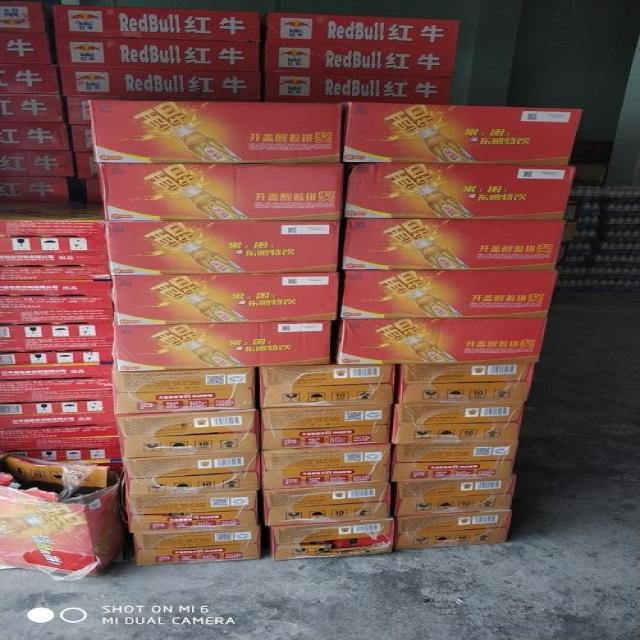box: (90, 100, 345, 164), (0, 451, 127, 577), (343, 102, 583, 167), (99, 162, 345, 219), (343, 163, 573, 219), (339, 218, 567, 273), (105, 222, 343, 274), (110, 271, 344, 323), (115, 320, 335, 370), (335, 271, 556, 320), (339, 320, 543, 361), (264, 13, 460, 54), (58, 62, 261, 100), (55, 33, 264, 69), (2, 197, 108, 267), (258, 68, 451, 105), (112, 368, 256, 417), (115, 411, 264, 458), (3, 264, 116, 325), (52, 6, 258, 39), (255, 363, 397, 410), (124, 450, 263, 498), (58, 93, 263, 125), (0, 320, 114, 377), (396, 361, 535, 406), (0, 379, 117, 430), (259, 46, 455, 75), (261, 405, 392, 448), (261, 446, 391, 489), (263, 482, 393, 525), (127, 491, 259, 532), (266, 518, 396, 559), (132, 527, 263, 566), (392, 405, 522, 444), (389, 444, 520, 480), (392, 477, 517, 514), (398, 511, 510, 550), (2, 426, 120, 461), (0, 147, 73, 177), (0, 92, 66, 124), (0, 60, 60, 95), (2, 120, 69, 150), (0, 30, 55, 64), (0, 174, 69, 199), (0, 2, 53, 34), (66, 123, 93, 151), (67, 149, 95, 175), (83, 174, 105, 203)
